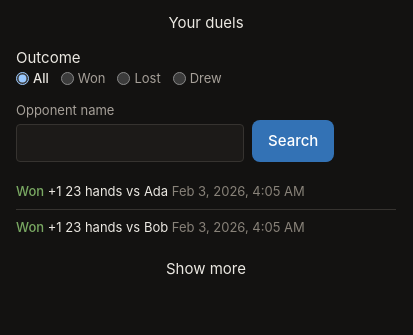
the history screen › appends the second page under the first, in the order both arrived
Click the button "Show more" at (206, 269), box [166,258,246,280]
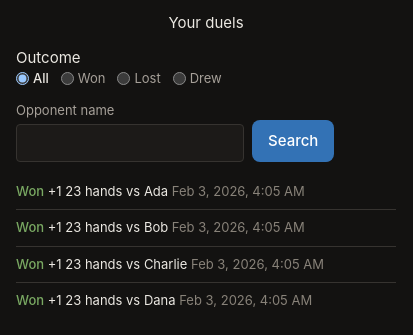
expect the number of list items is 4: met, box [16,182,305,198]; [16,209,396,246]; [16,246,396,282]; [16,282,396,318]
